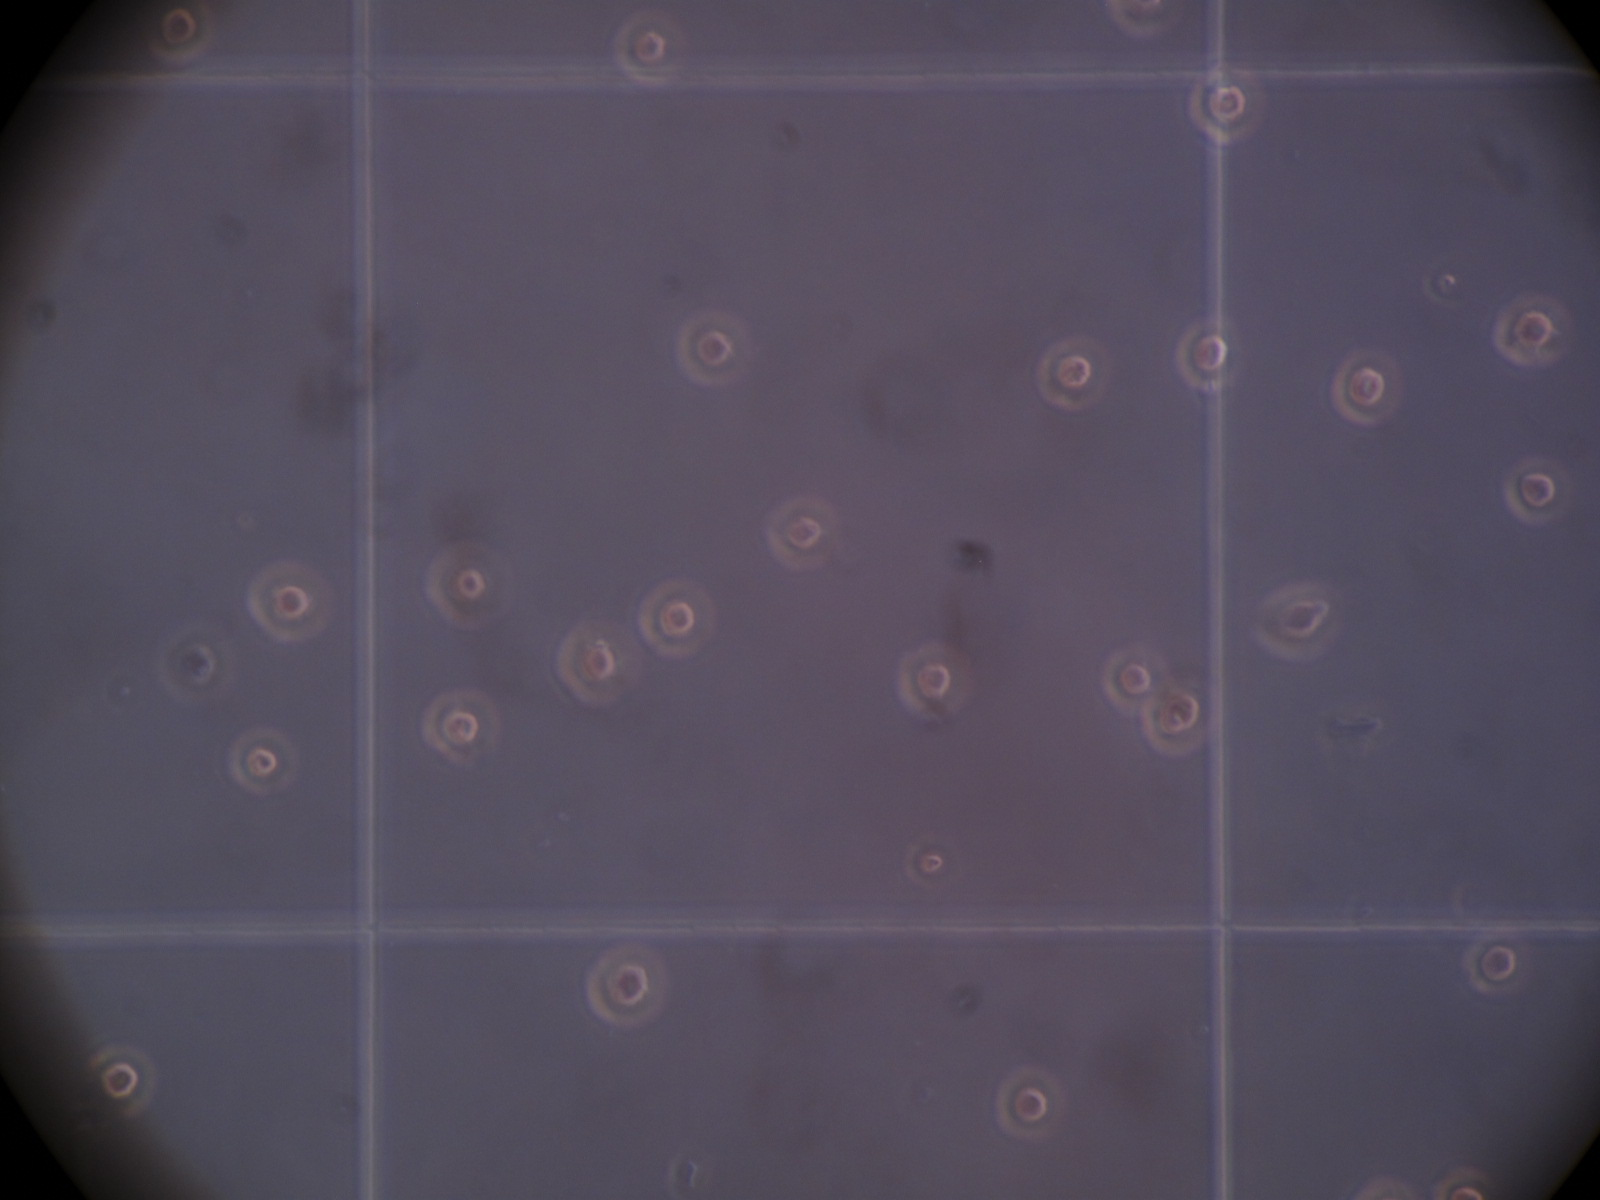hemo: (423, 539, 509, 628), (556, 616, 635, 708), (1250, 581, 1340, 661), (585, 944, 668, 1027), (246, 558, 329, 642), (423, 689, 501, 766), (763, 495, 840, 574), (641, 579, 716, 659), (1186, 71, 1267, 142), (1493, 294, 1572, 367), (610, 8, 687, 82), (677, 309, 751, 386), (1141, 679, 1214, 758), (894, 640, 973, 713), (1036, 337, 1109, 410), (1333, 350, 1402, 427), (226, 722, 296, 795), (997, 1066, 1065, 1139), (87, 1047, 156, 1117), (1102, 644, 1169, 716), (1175, 321, 1238, 389), (144, 1, 213, 59), (1506, 454, 1561, 524), (1464, 937, 1522, 997), (1107, 1, 1182, 37), (903, 833, 947, 891), (173, 639, 215, 688), (1435, 1163, 1490, 1200)
